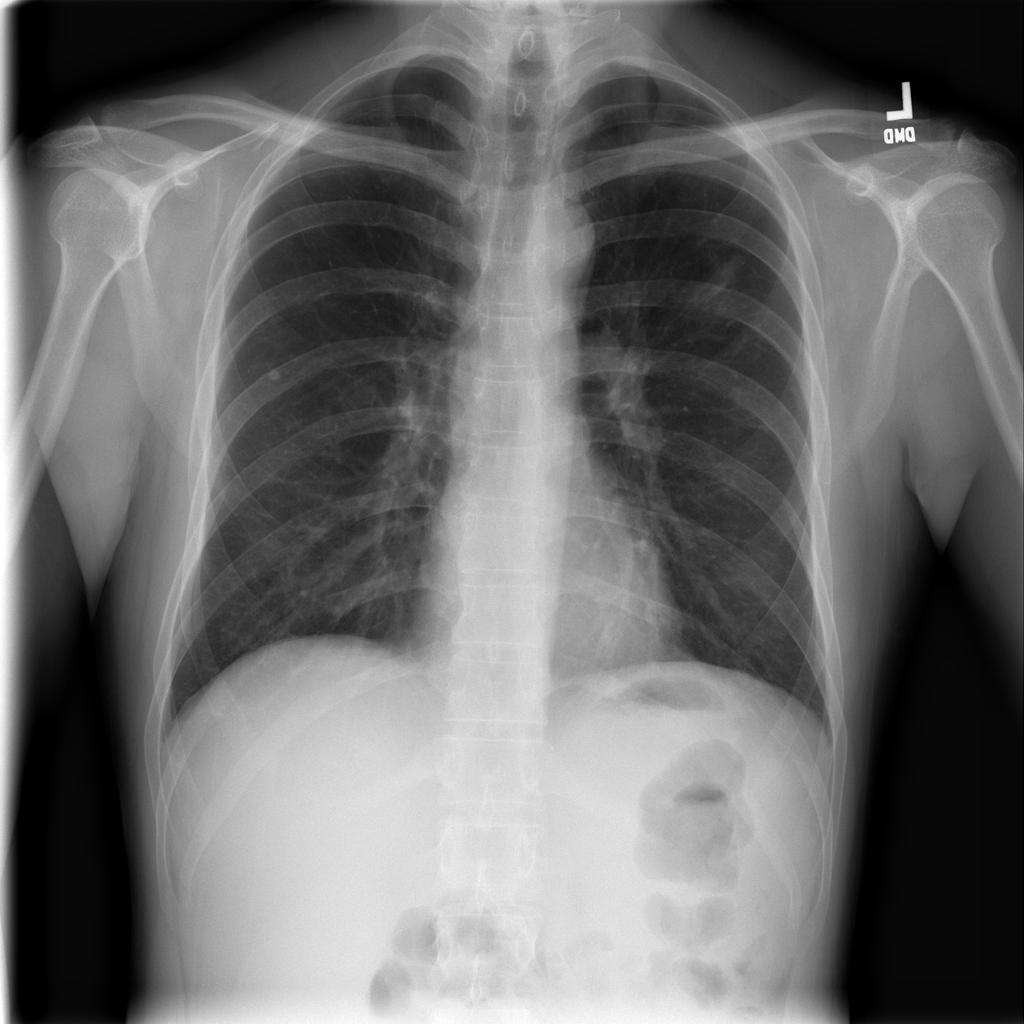nodule: (248, 350, 298, 400)
